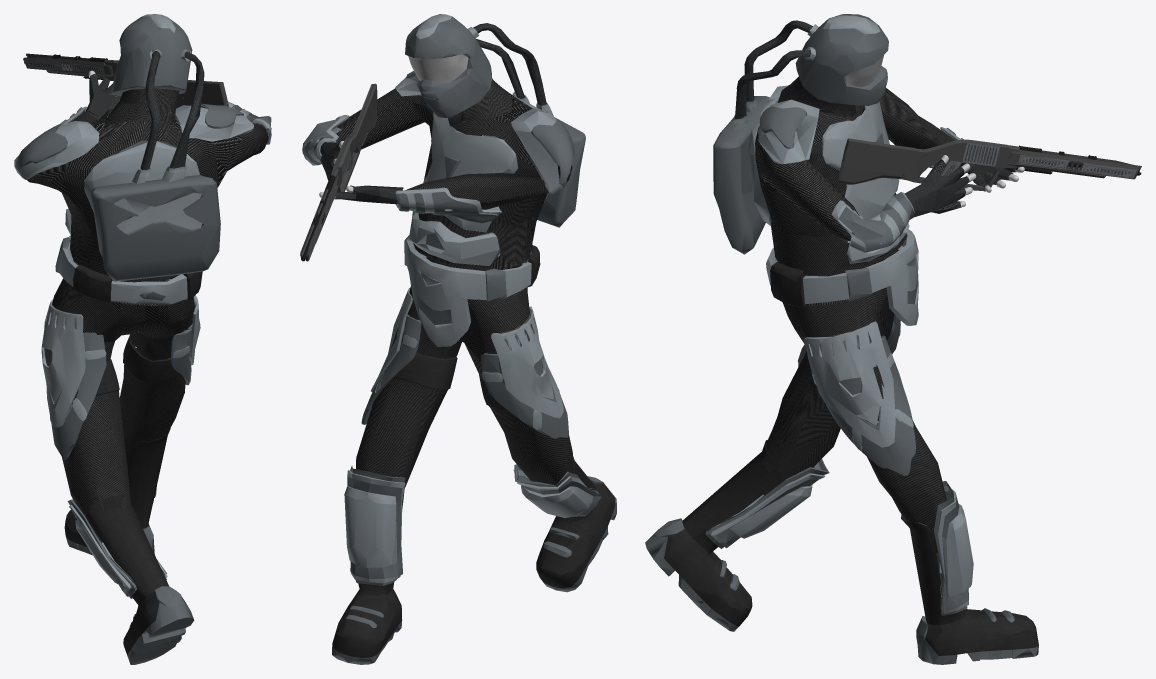
The picture shows the model from 3 angles, left to right: view 1: azimuth 30°, elevation 25°; view 2: azimuth 150°, elevation 25°; view 3: azimuth 270°, elevation 25°; orthographic projection. The views are drawn at different scales.
Parts seen in each view (by area): view 1: personaje:extrudedSurface2 polySurface76, personaje:PANTALON polySurface76, personaje:bota1 polySurface76, personaje:CAMISETABUENA polySurface76, personaje:pPipe4 polySurface76, personaje:cosoarmdaurapierna1 polySurface76, personaje:pCube4 polySurface76, personaje:cinturon polySurface76, escopeta:Cylinder001 polySurface76, personaje:polySurface6 polySurface76, personaje:HOMBRO2 polySurface76, personaje:polySurface11 polySurface76 (+3 smaller); view 2: personaje:PANTALON polySurface76, personaje:CAMISETABUENA polySurface76, personaje:pPipe4 polySurface76, personaje:bota1 polySurface76, personaje:extrudedSurface2 polySurface76, personaje:cinturon polySurface76, personaje:armadbota1 polySurface76, personaje:pCube4 polySurface76, personaje:cosoarmdaurapierna1 polySurface76, escopeta:Cylinder001 polySurface76, personaje:polySurface6 polySurface76, personaje:polySurface2 polySurface76 (+6 smaller); view 3: personaje:bota1 polySurface76, personaje:CAMISETABUENA polySurface76, personaje:PANTALON polySurface76, personaje:extrudedSurface2 polySurface76, personaje:pPipe4 polySurface76, personaje:pCube4 polySurface76, escopeta:Cylinder001 polySurface76, personaje:cinturon polySurface76, personaje:armadbota1 polySurface76, personaje:cosoarmadurapierna2 polySurface76, personaje:hombro1 polySurface76, personaje:partearmdBRAZO2 polySurface76 (+1 smaller).
Part boxes in pixels (x1=…): personaje:extrudedSurface2 polySurface76: x1=90, y1=14, x2=220, y2=281; personaje:PANTALON polySurface76: x1=52, y1=259, x2=194, y2=542; personaje:bota1 polySurface76: x1=64, y1=429, x2=194, y2=664; personaje:CAMISETABUENA polySurface76: x1=24, y1=88, x2=268, y2=306; personaje:pPipe4 polySurface76: x1=14, y1=74, x2=271, y2=235; personaje:cosoarmdaurapierna1 polySurface76: x1=41, y1=299, x2=106, y2=427; personaje:pCube4 polySurface76: x1=44, y1=279, x2=200, y2=598; personaje:cinturon polySurface76: x1=55, y1=235, x2=202, y2=303; escopeta:Cylinder001 polySurface76: x1=23, y1=53, x2=228, y2=108; personaje:polySurface6 polySurface76: x1=95, y1=335, x2=180, y2=395; personaje:HOMBRO2 polySurface76: x1=15, y1=124, x2=67, y2=170; personaje:polySurface11 polySurface76: x1=140, y1=51, x2=160, y2=170; personaje:PANTALON polySurface76: x1=356, y1=256, x2=574, y2=488; personaje:CAMISETABUENA polySurface76: x1=317, y1=55, x2=572, y2=298; personaje:pPipe4 polySurface76: x1=302, y1=75, x2=566, y2=266; personaje:bota1 polySurface76: x1=332, y1=458, x2=616, y2=664; personaje:extrudedSurface2 polySurface76: x1=405, y1=14, x2=585, y2=227; personaje:cinturon polySurface76: x1=404, y1=229, x2=540, y2=346; personaje:armadbota1 polySurface76: x1=344, y1=469, x2=598, y2=583; personaje:pCube4 polySurface76: x1=347, y1=287, x2=601, y2=585; personaje:cosoarmdaurapierna1 polySurface76: x1=482, y1=306, x2=563, y2=430; escopeta:Cylinder001 polySurface76: x1=300, y1=83, x2=378, y2=261; personaje:polySurface6 polySurface76: x1=394, y1=353, x2=510, y2=412; personaje:polySurface2 polySurface76: x1=398, y1=192, x2=498, y2=223; personaje:bota1 polySurface76: x1=645, y1=440, x2=1038, y2=664; personaje:CAMISETABUENA polySurface76: x1=755, y1=76, x2=954, y2=305; personaje:PANTALON polySurface76: x1=761, y1=243, x2=946, y2=552; personaje:extrudedSurface2 polySurface76: x1=713, y1=14, x2=888, y2=254; personaje:pPipe4 polySurface76: x1=748, y1=85, x2=1015, y2=263; personaje:pCube4 polySurface76: x1=705, y1=314, x2=968, y2=615; escopeta:Cylinder001 polySurface76: x1=838, y1=138, x2=1141, y2=191; personaje:cinturon polySurface76: x1=766, y1=229, x2=918, y2=325; personaje:armadbota1 polySurface76: x1=710, y1=463, x2=973, y2=613; personaje:cosoarmadurapierna2 polySurface76: x1=807, y1=335, x2=915, y2=475; personaje:hombro1 polySurface76: x1=759, y1=106, x2=806, y2=149; personaje:partearmdBRAZO2 polySurface76: x1=831, y1=192, x2=914, y2=253.
Bounding box in the file's own units: 4.25 × 9.48 × 6.61.
